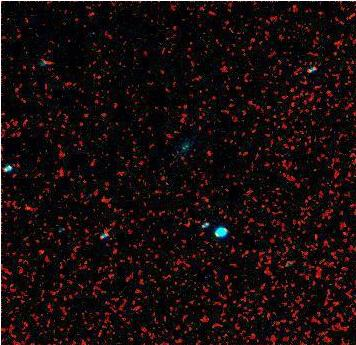star: (29, 237, 59, 267)
